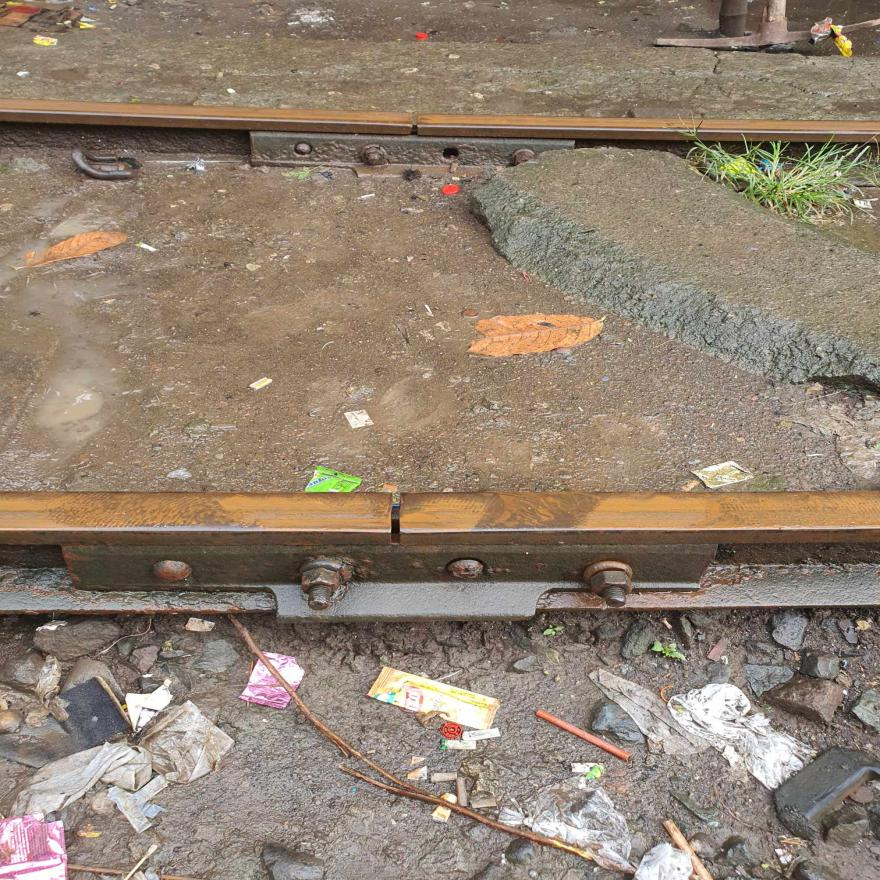railway-gap: (334, 473, 457, 554), (377, 98, 458, 157)
